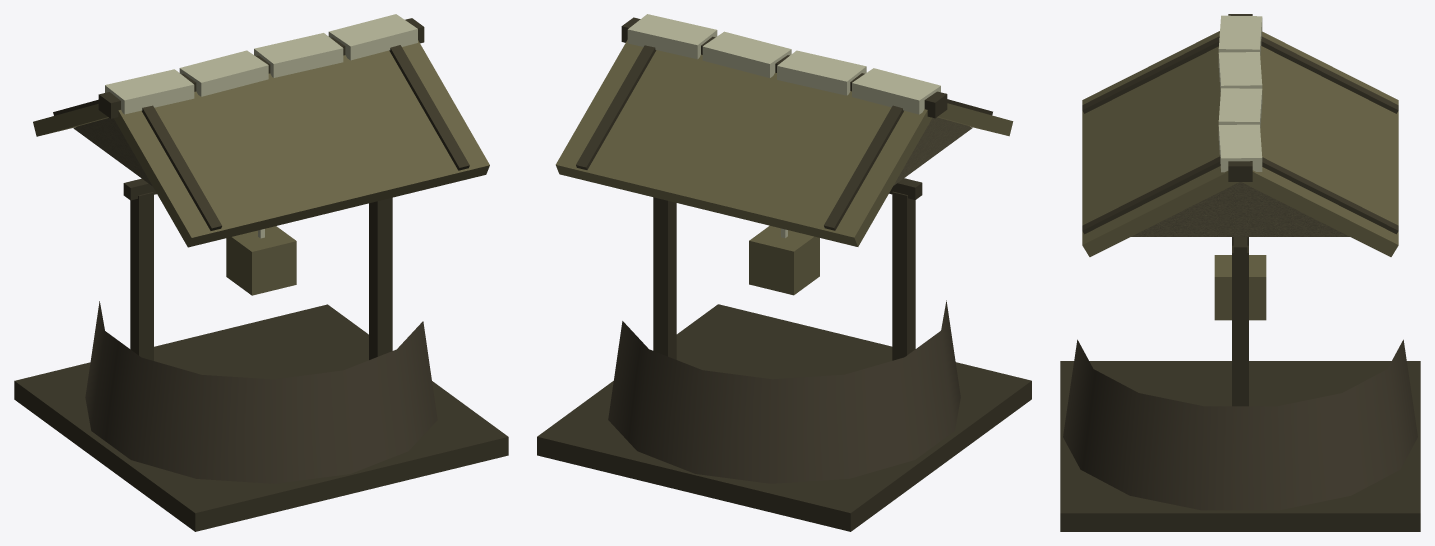
The model's file is baseline.glb.
The picture shows the model from 3 angles, left to right: view 1: azimuth 30°, elevation 25°; view 2: azimuth 150°, elevation 25°; view 3: azimuth 270°, elevation 25°; orthographic projection.
Visible parts, largest first — view 1: well_roof_ss, well_ring, well_base, well_bucket, well_post_w, well_post_e, well_roof_cap_2, well_roof_cap_1, well_roof_cap_0, well_roof_cap_3, well_roof_rakees, well_roof_rakews (+3 smaller); view 2: well_roof_sn, well_ring, well_base, well_bucket, well_post_w, well_post_e, well_roof_cap_1, well_roof_cap_2, well_roof_cap_3, well_roof_cap_0, well_roof_rakeen, well_roof_rakewn (+3 smaller); view 3: well_ring, well_base, well_roof_sn, well_roof_ss, well_roof_ende, well_post_e, well_bucket, well_roof_cap_3, well_roof_cap_1, well_roof_cap_2, well_roof_cap_0, well_roof_rakees (+4 smaller).
Part boxes in pixels (x1,y1,x2,y2): well_roof_ss: (114,40,489,247); well_ring: (85,301,437,483); well_base: (14,304,508,531); well_bucket: (226,226,296,295); well_post_w: (130,192,153,360); well_post_e: (369,197,392,359); well_roof_cap_2: (254,33,343,77); well_roof_cap_1: (179,50,268,96); well_roof_cap_0: (105,69,194,114); well_roof_cap_3: (328,14,417,60); well_roof_rakees: (389,45,469,170); well_roof_rakews: (142,105,221,230); well_roof_sn: (555,40,932,246); well_ring: (608,300,960,483); well_base: (537,304,1031,531); well_bucket: (749,226,819,295); well_post_w: (892,191,915,360); well_post_e: (653,197,676,359); well_roof_cap_1: (777,50,866,95); well_roof_cap_2: (702,31,791,77); well_roof_cap_3: (627,14,717,59); well_roof_cap_0: (852,68,940,114); well_roof_rakeen: (576,45,656,169); well_roof_rakewn: (824,105,903,230); well_ring: (1063,339,1417,510); well_base: (1060,361,1420,531); well_roof_sn: (1242,31,1398,256); well_roof_ss: (1082,31,1238,256); well_roof_ende: (1131,182,1349,236); well_post_e: (1232,245,1248,406); well_bucket: (1214,255,1266,320); well_roof_cap_3: (1218,124,1262,172); well_roof_cap_1: (1218,52,1262,91); well_roof_cap_2: (1218,88,1262,127); well_roof_cap_0: (1218,15,1262,55); well_roof_rakees: (1082,156,1220,234).
Bounding box in the file's own units: 2.1 × 2.37 × 2.1.
Materials: 1 (1 with a texture image).
